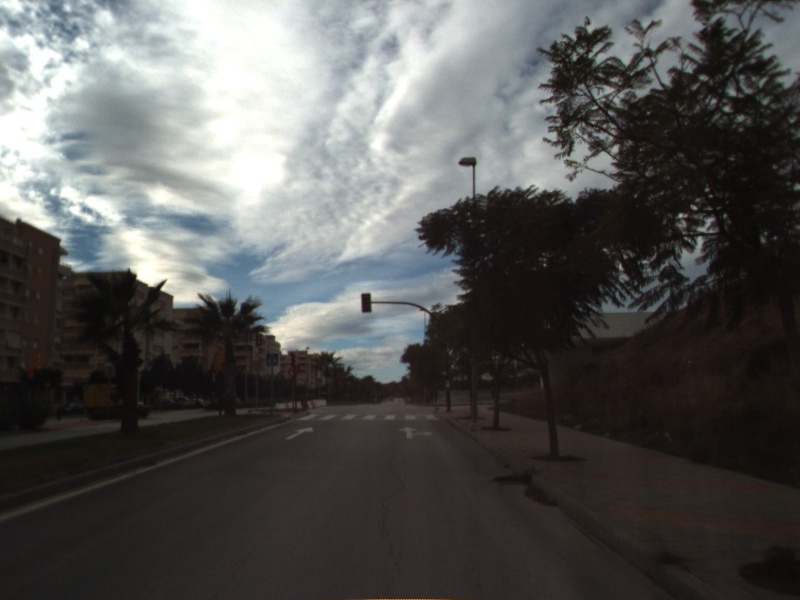STRAIGHT: (284, 425, 316, 442)
STRAIGHT_RIGHT: (396, 424, 435, 441)
